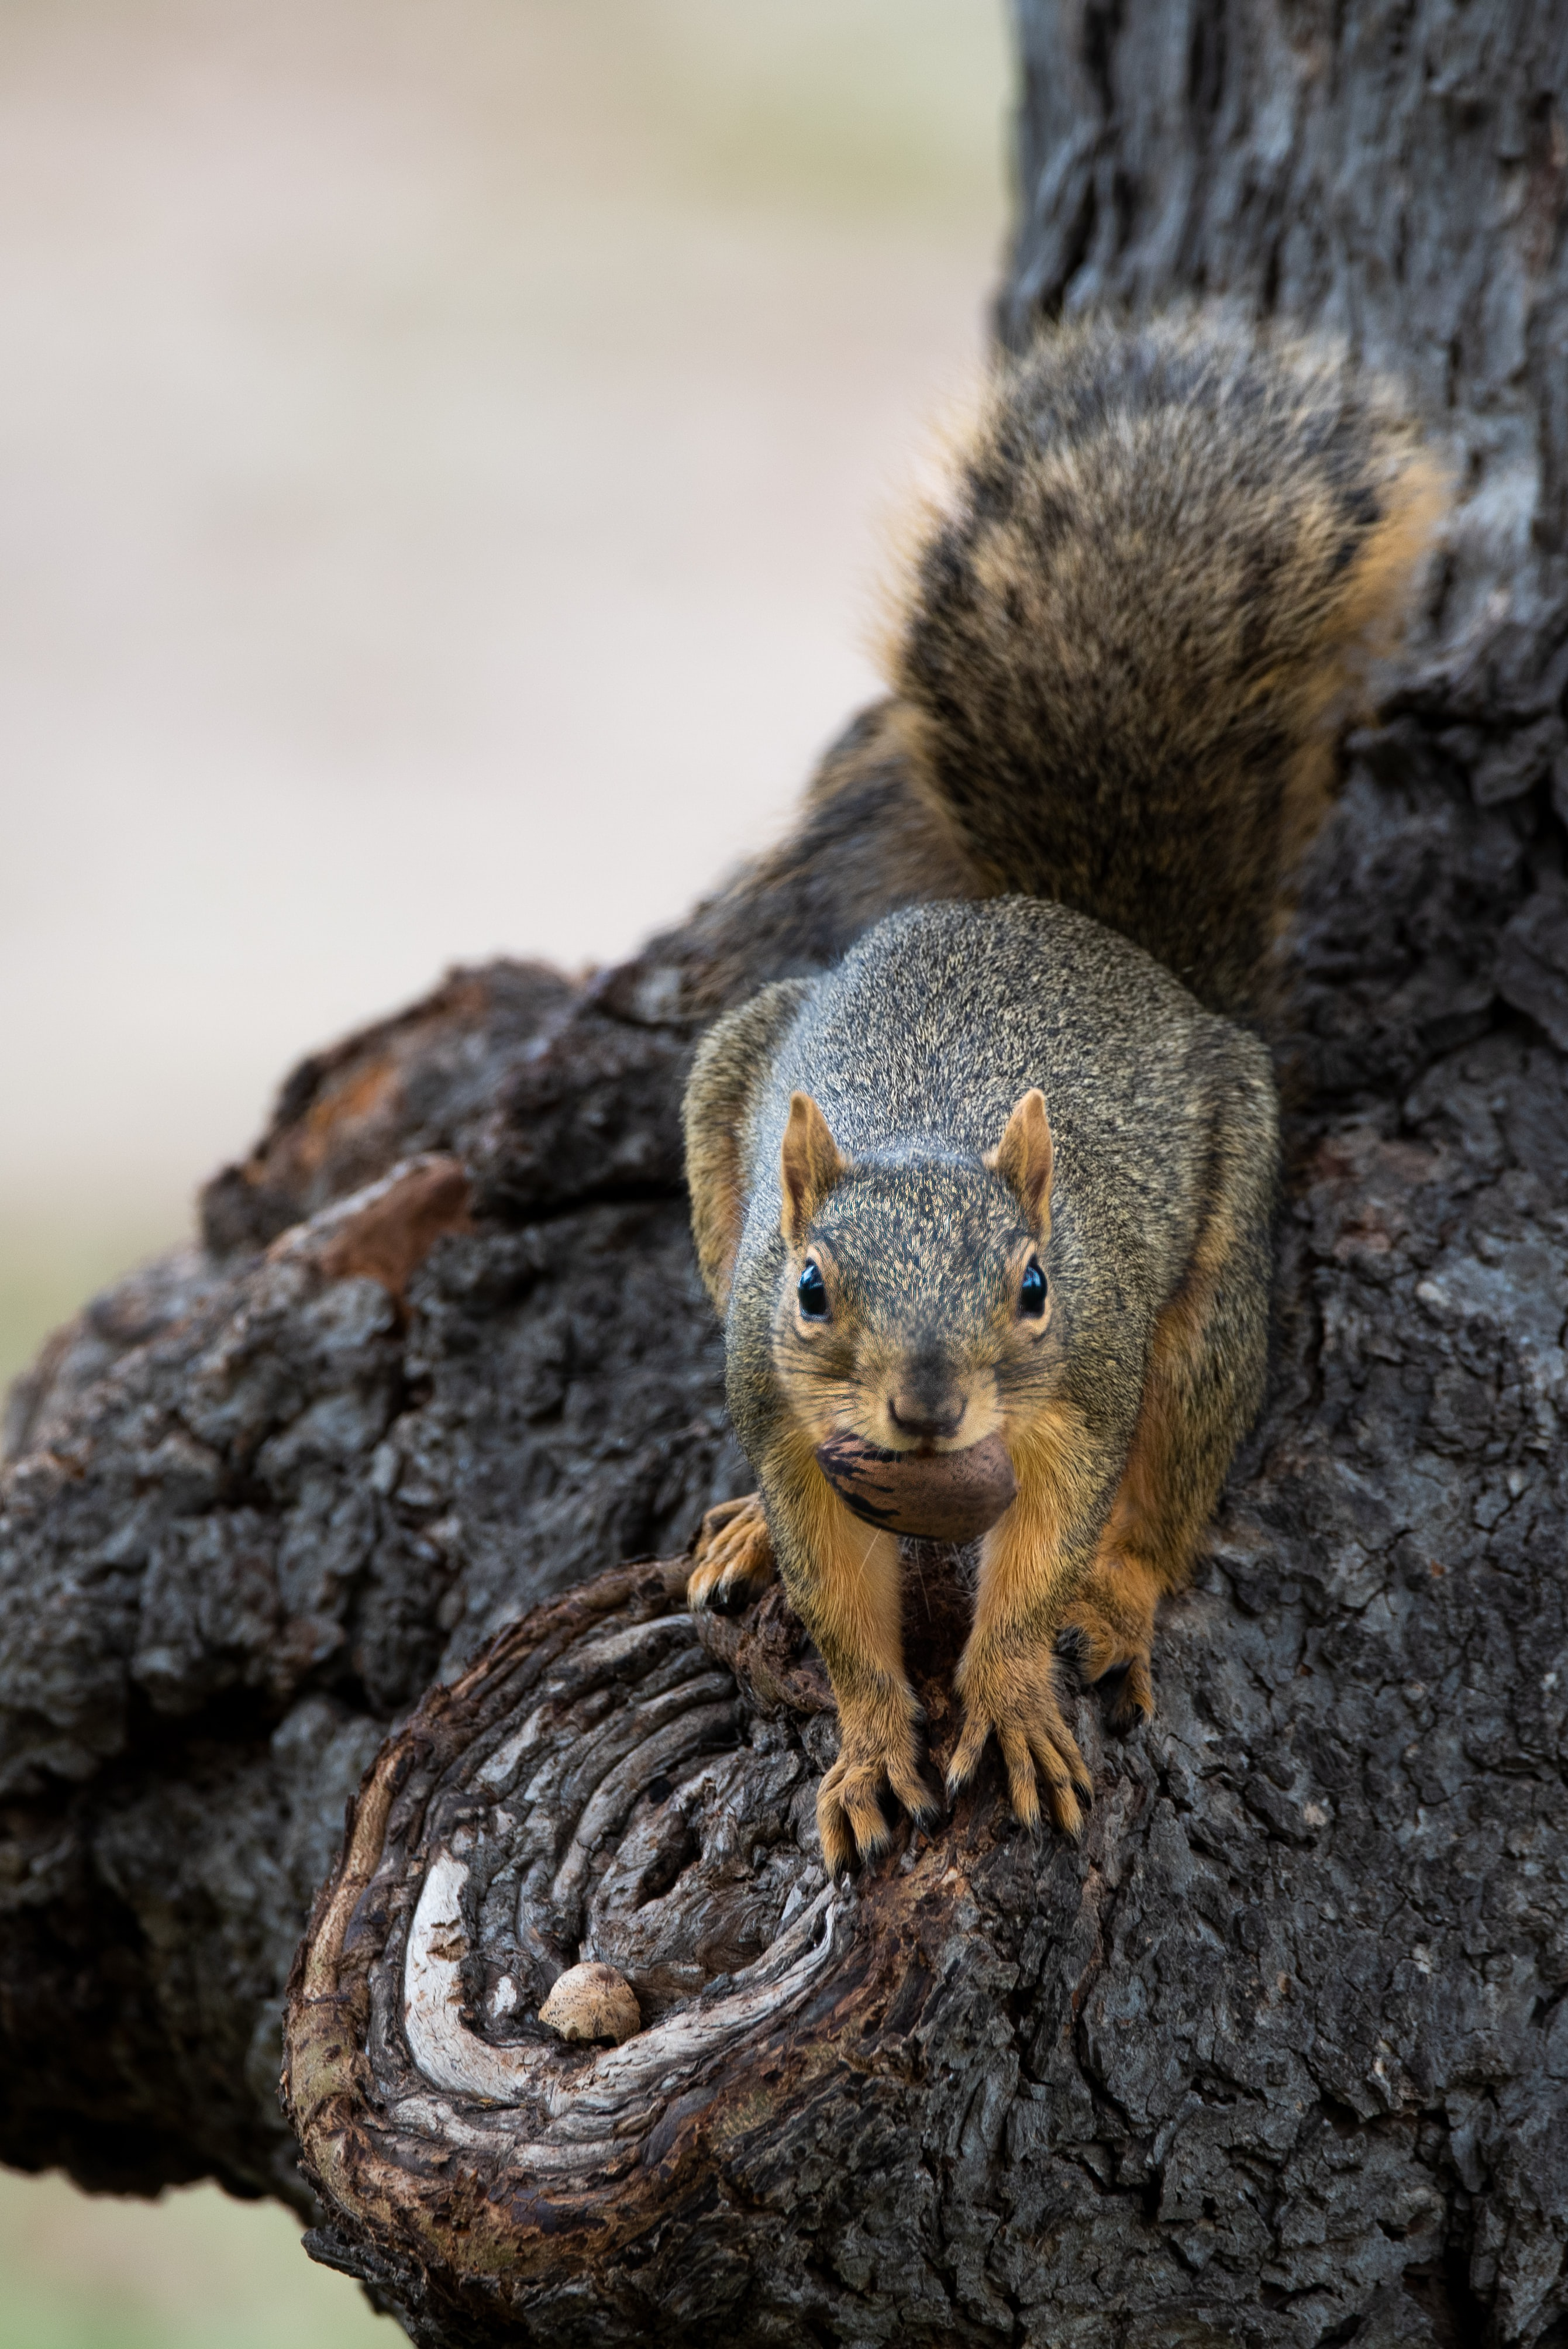squirrel: (663, 278, 1428, 1868)
